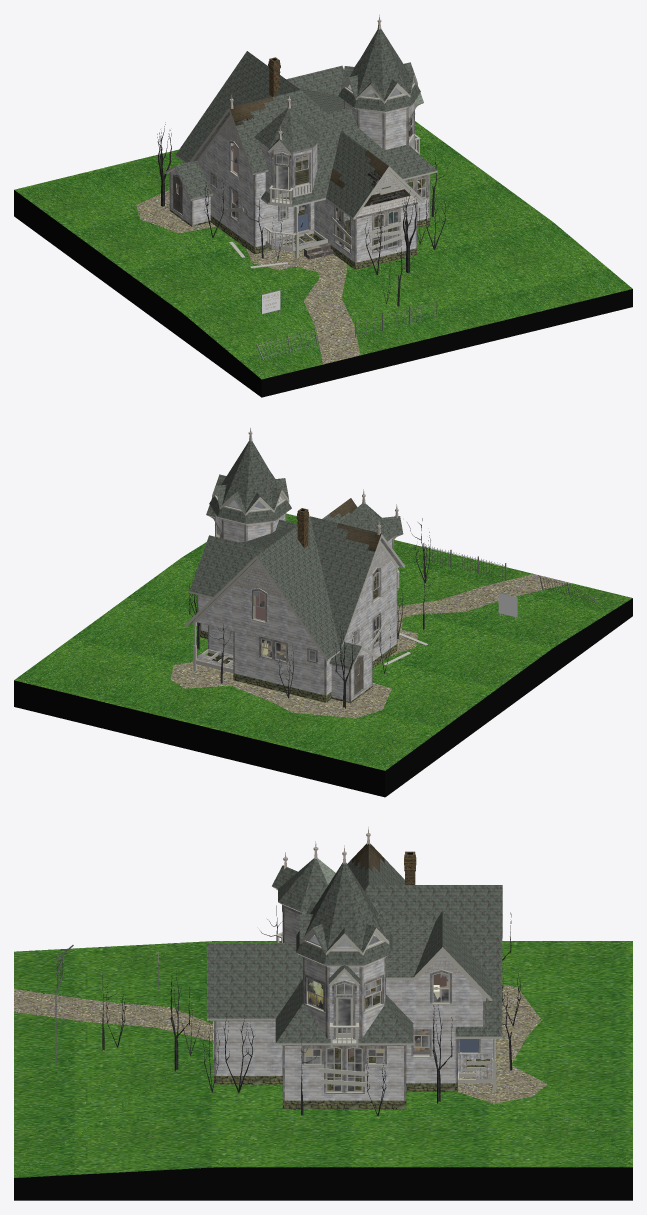
File: map4.glb
3 renders of one model, top to bottom at view 1: azimuth 30°, elevation 25°; view 2: azimuth 150°, elevation 25°; view 3: azimuth 270°, elevation 25°, orthographic. The views are drawn at different scales.
Visible parts, largest first — view 1: Material3.021, Material3.1737, Material3.1736, Material3.1695, Material3.1696, Material3.1758, Material3.004, Material3.1751, Material3.1733, Material3.025, Material3.1777, Material3.1747 (+11 smaller); view 2: Material3.021, Material3.1780, Material3.1748, Material3.1733, Material3.1696, Material3.1698, Material3.1734, Material3.1758, Material3.1751, Material3.1741, Material3.025, Material3.1697 (+7 smaller); view 3: Material3.021, Material3.1735, Material3.1693, Material3.1760, Material3.1775, Material3.1745, Material3.1740, Material3.025, Material3.1765, Material3.1732, Material2.011, Material3.1703 (+14 smaller).
Part boxes in pixels (bbox=[...]): Material3.021: bbox=[14, 58, 632, 397]; Material3.1737: bbox=[293, 121, 437, 205]; Material3.1736: bbox=[326, 131, 374, 217]; Material3.1695: bbox=[236, 90, 355, 148]; Material3.1696: bbox=[222, 51, 299, 103]; Material3.1758: bbox=[198, 161, 253, 246]; Material3.004: bbox=[229, 97, 410, 206]; Material3.1751: bbox=[200, 135, 253, 199]; Material3.1733: bbox=[176, 87, 244, 162]; Material3.025: bbox=[169, 209, 430, 269]; Material3.1777: bbox=[357, 205, 415, 262]; Material3.1747: bbox=[256, 199, 314, 246]; Material3.021: bbox=[14, 503, 632, 797]; Material3.1780: bbox=[233, 626, 324, 694]; Material3.1748: bbox=[196, 586, 316, 646]; Material3.1733: bbox=[282, 563, 340, 658]; Material3.1696: bbox=[257, 516, 320, 591]; Material3.1698: bbox=[310, 516, 374, 574]; Material3.1734: bbox=[321, 563, 366, 649]; Material3.1758: bbox=[345, 598, 396, 661]; Material3.1751: bbox=[348, 561, 396, 632]; Material3.1741: bbox=[189, 556, 244, 596]; Material3.025: bbox=[200, 630, 397, 703]; Material3.1697: bbox=[202, 535, 264, 566]; Material3.021: bbox=[14, 852, 632, 1200]; Material3.1735: bbox=[207, 943, 302, 1018]; Material3.1693: bbox=[364, 885, 502, 938]; Material3.1760: bbox=[285, 1046, 403, 1100]; Material3.1775: bbox=[386, 974, 482, 1026]; Material3.1745: bbox=[216, 1021, 282, 1075]; Material3.1740: bbox=[455, 938, 502, 1036]; Material3.025: bbox=[214, 1059, 489, 1109]; Material3.1765: bbox=[406, 1025, 457, 1083]; Material3.1732: bbox=[386, 920, 435, 977]; Material2.011: bbox=[106, 963, 521, 1116]; Material3.1703: bbox=[327, 863, 361, 949].
Size of the model in its own units: 32.71 by 18.98 by 37.79.
54 materials, 34 textured.
